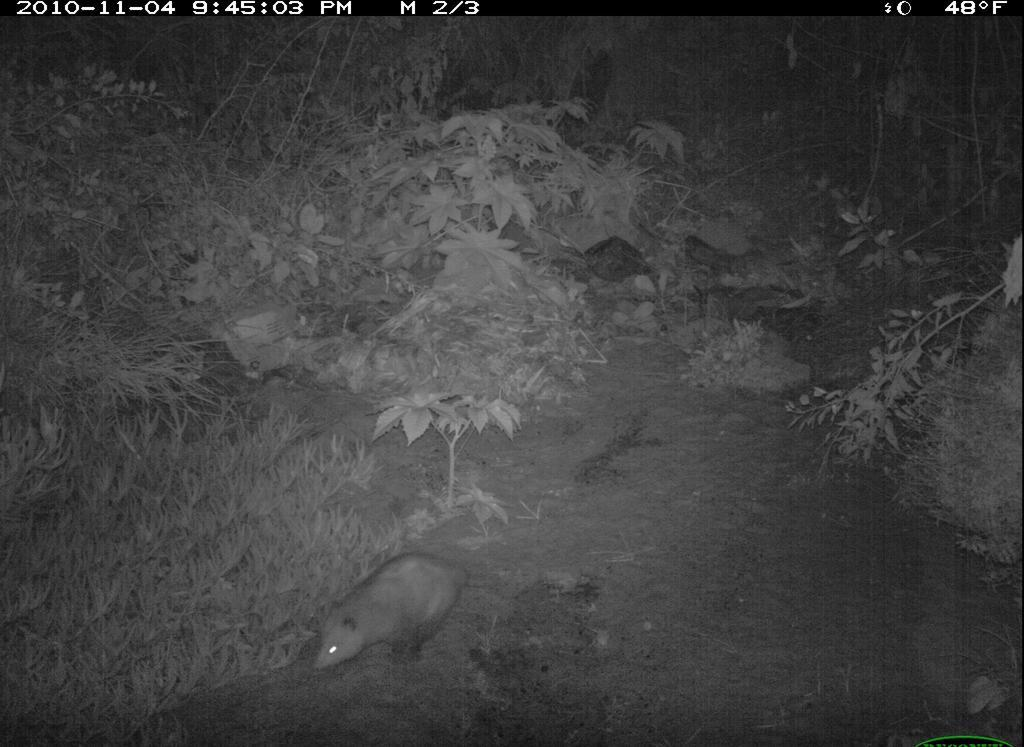opossum: (313, 539, 489, 676)
